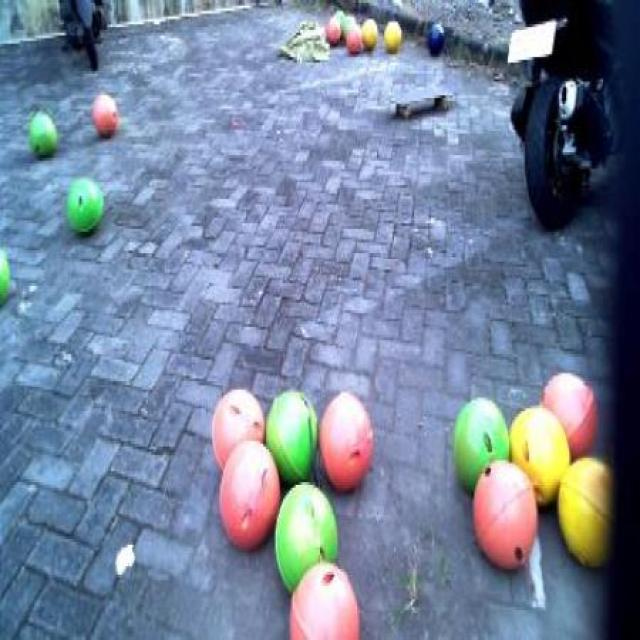buoy: (470, 450, 540, 574), (553, 448, 619, 576), (272, 473, 341, 595), (214, 433, 281, 558), (504, 401, 573, 511), (317, 378, 376, 506), (535, 364, 600, 462), (452, 389, 511, 496), (260, 378, 322, 479), (286, 558, 364, 636), (209, 380, 265, 478), (62, 170, 106, 241), (89, 82, 120, 141), (25, 110, 57, 162), (420, 15, 448, 56), (383, 18, 402, 53), (360, 15, 378, 50)
